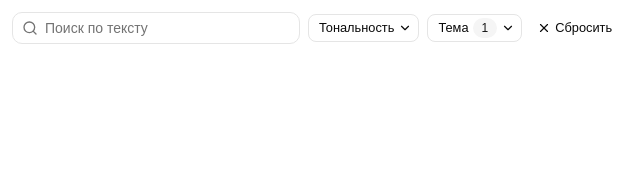
Test: ReviewsToolbar: поиск › незаписанный ввод не перетирает сброс
This screenshot has width=640, height=172.
In the search field named "Поиск по тексту отзывов": (156, 28) [12, 12, 300, 44], type "курьер"
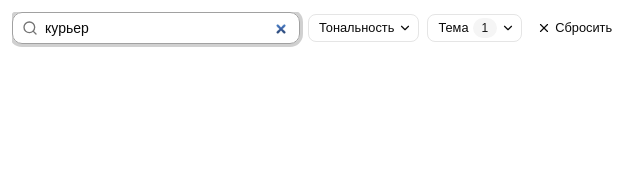
Click the button "Сбросить": (577, 28) [530, 14, 623, 42]
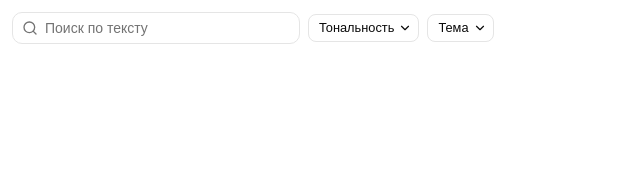
expect the search field named "Поиск по тексту отзывов" is empty: met, box [12, 12, 300, 44]
